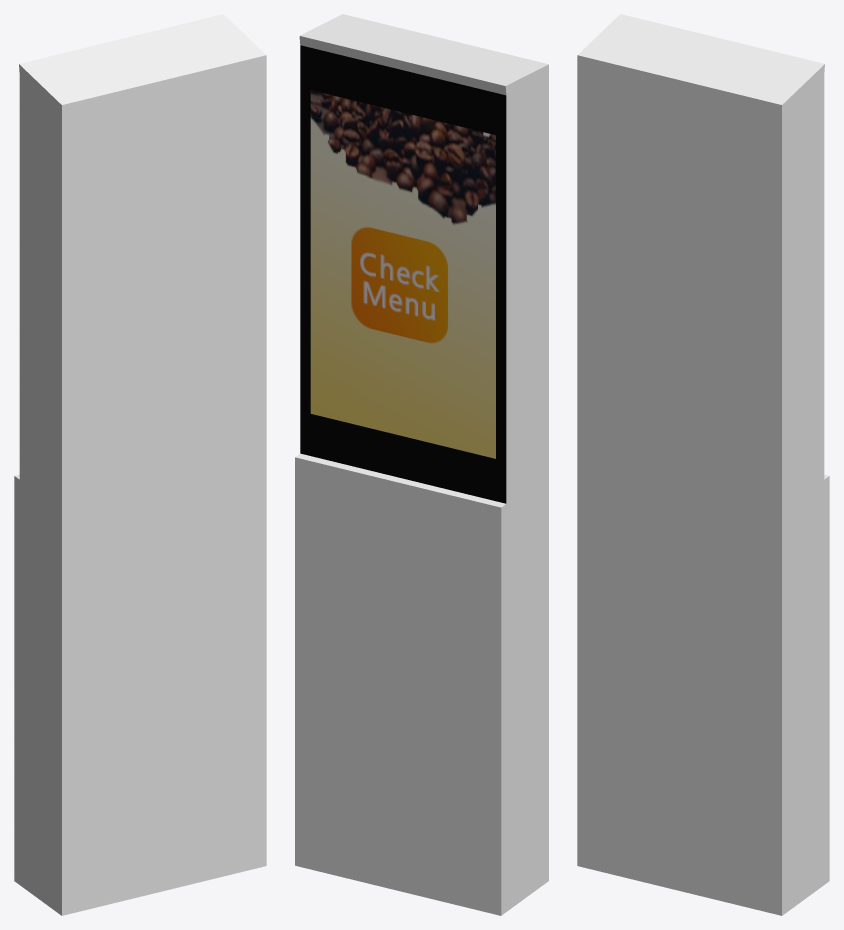
Rendered from kiosk.fbx.
3 renders of one model, left to right at view 1: azimuth 30°, elevation 25°; view 2: azimuth 150°, elevation 25°; view 3: azimuth 330°, elevation 25°, orthographic.
Parts seen in each view (by area): view 1: pCube32; view 2: pCube32; view 3: pCube32.
Boxes of the visible parts, x1,y1,x2,y2 form: pCube32: [14, 14, 266, 915]; pCube32: [295, 14, 548, 915]; pCube32: [577, 14, 829, 915].
Bounding box in the file's own units: 0.00375 × 0.0144 × 0.00151.
Materials: 1 (1 with a texture image).
